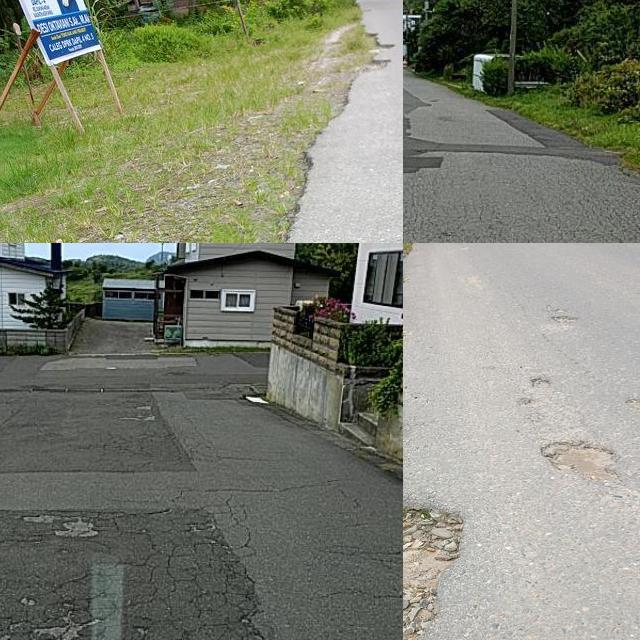Lubang: (531, 436, 621, 483)
Pinggir: (231, 15, 403, 243)
Sambungan: (0, 507, 269, 640), (0, 387, 200, 475)
